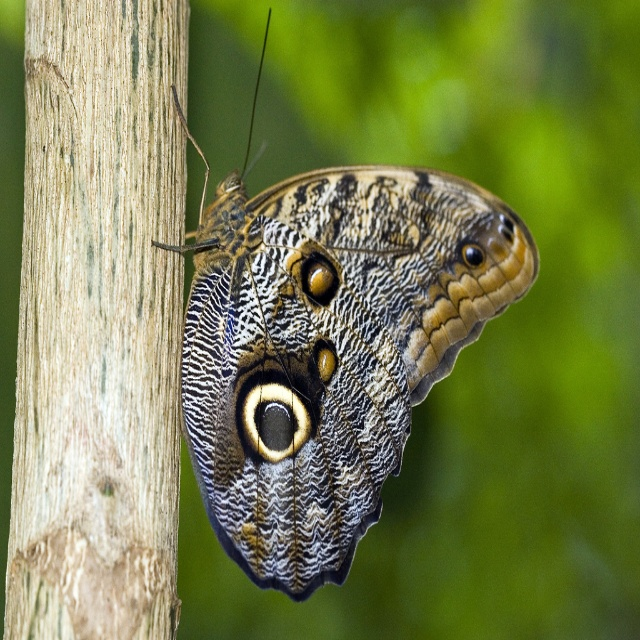Butterfly: (167, 54, 539, 640)
